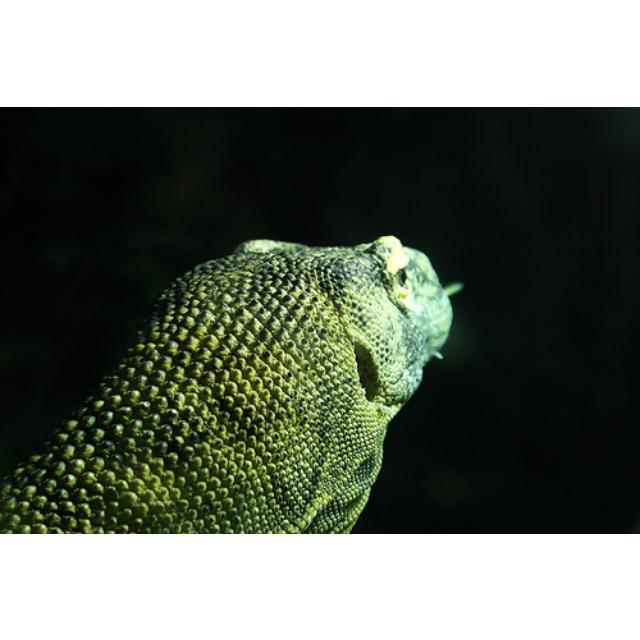KomodoDragon: (1, 232, 464, 531)
